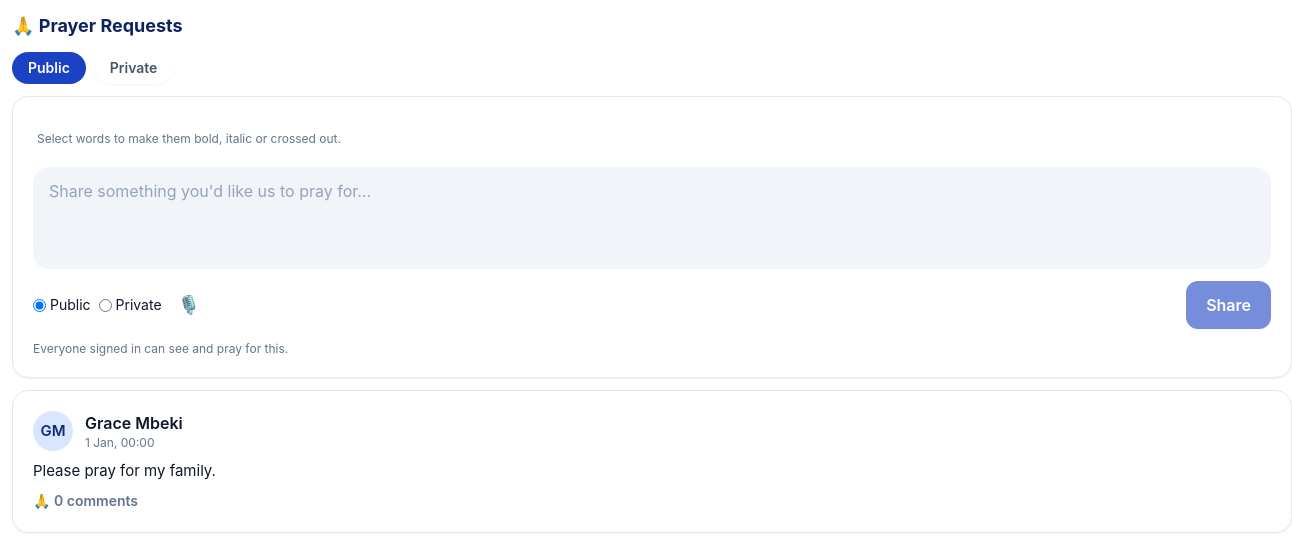
Test case: PrayerRequests — feed › switching to the Private tab re-fetches with scope=private
expect the text "Grace Mbeki" is shown: met, box [85,413,183,433]
Click the tab "Private": [134, 68] box [94,52,173,84]
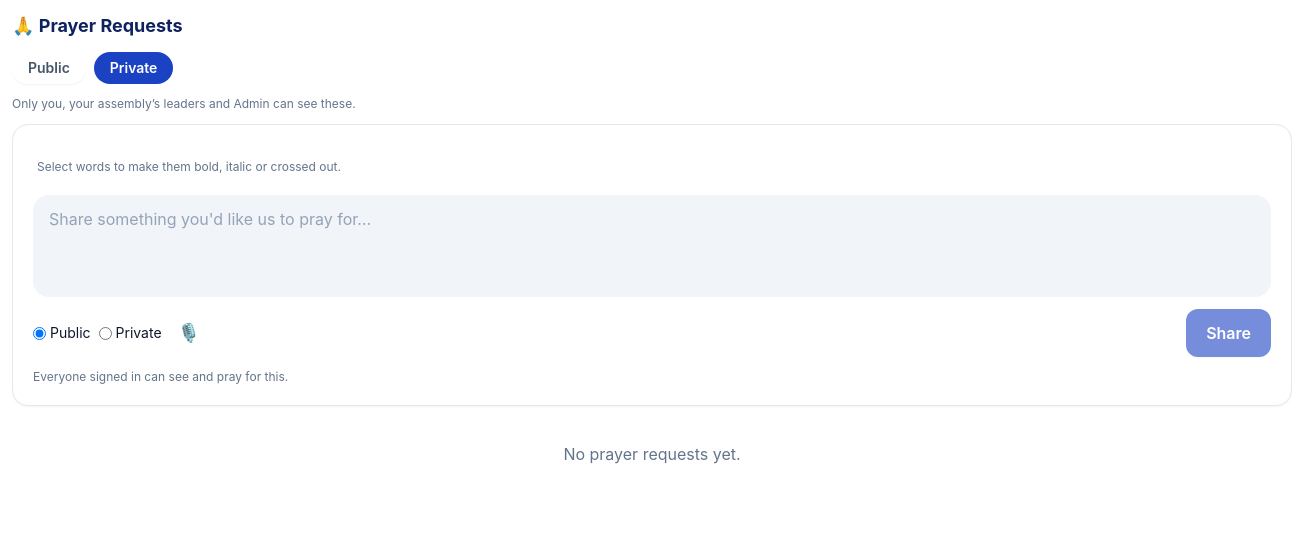
expect the text "No prayer requests yet." is shown: met, box [563,444,741,464]
